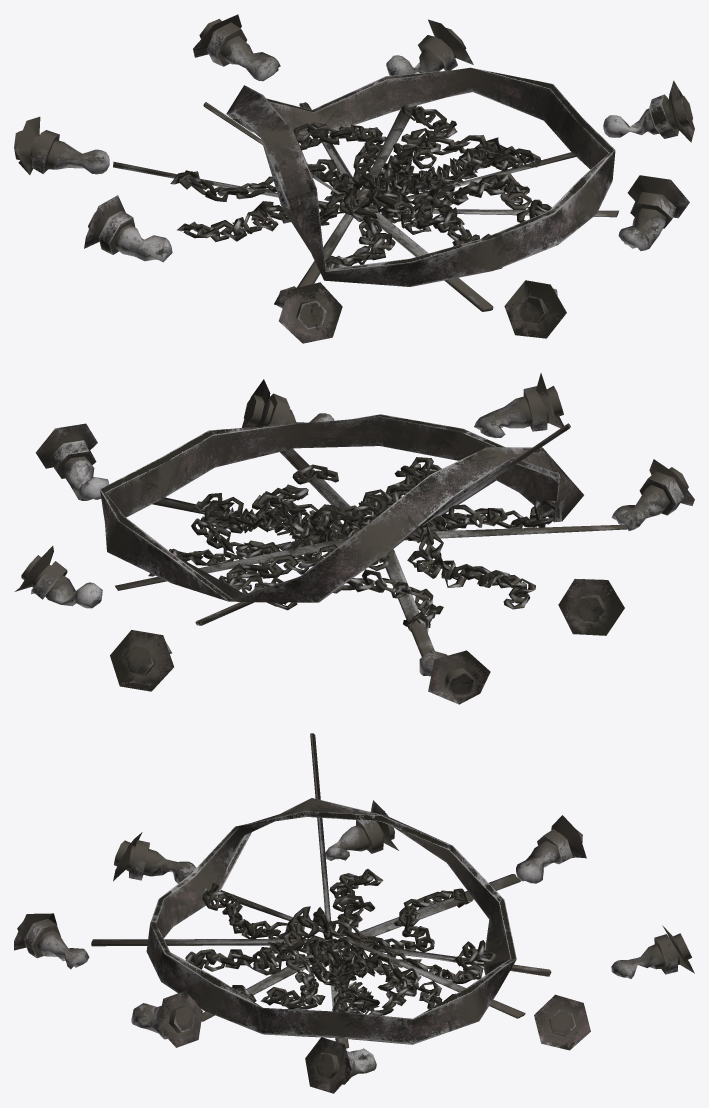
The model's file is candelier2.fbx.
3 views of the same model, one above another, from view 1: azimuth 30°, elevation 25°; view 2: azimuth 150°, elevation 25°; view 3: azimuth 270°, elevation 25° (orthographic). The views are drawn at different scales.
Visible parts, largest first — view 1: chandelier_2; view 2: chandelier_2; view 3: chandelier_2.
Boxes of the visible parts, x1,y1,x2,y2 form: chandelier_2: [14, 14, 694, 343]; chandelier_2: [14, 373, 694, 704]; chandelier_2: [14, 733, 694, 1093].
Size of the model in its own units: 324 by 291 by 75.45.
